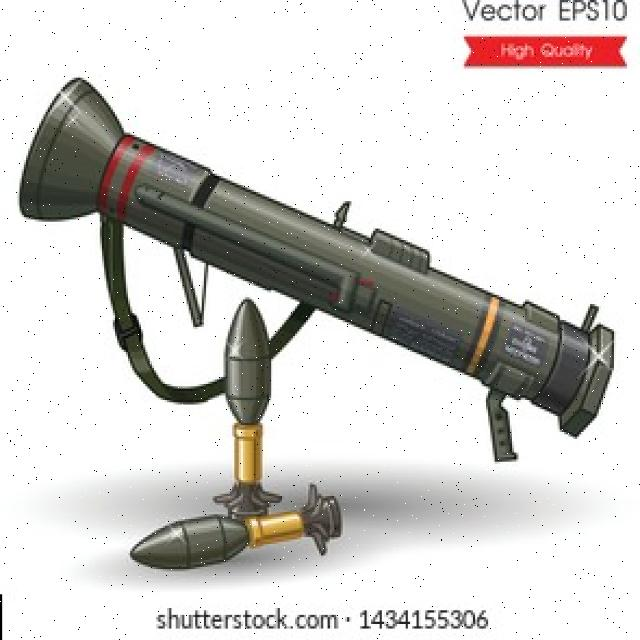bazooka: (11, 70, 624, 440)
